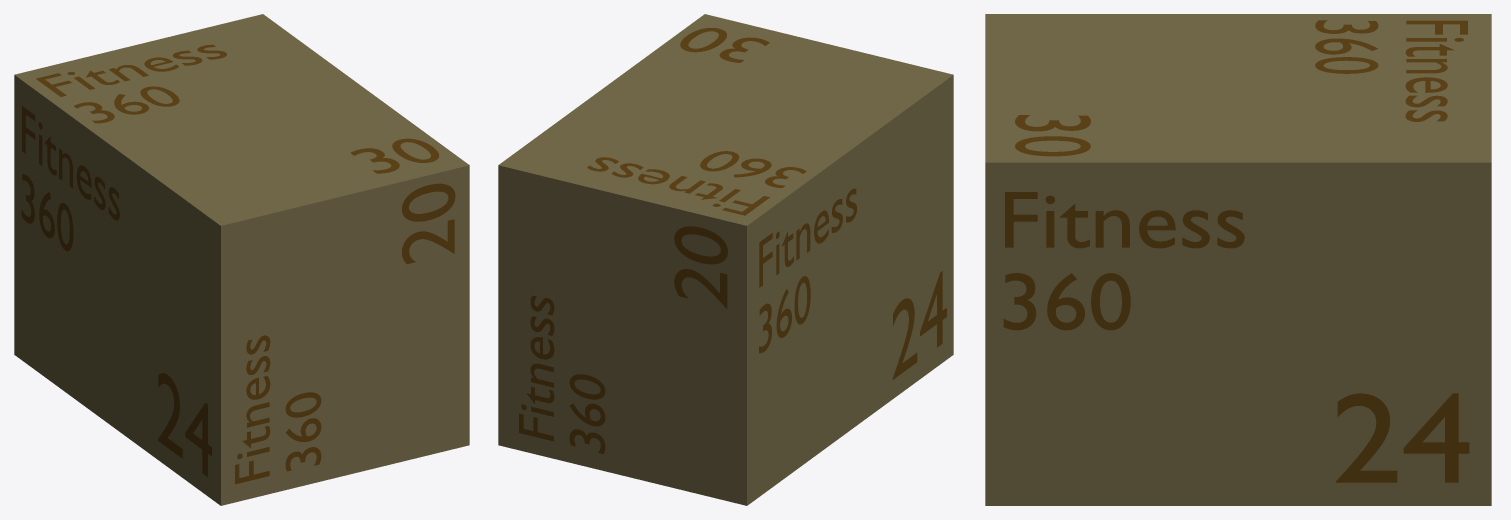
Rendered from FitnessBOX2.fbx.
The picture shows the model from 3 angles, left to right: view 1: azimuth 30°, elevation 25°; view 2: azimuth 150°, elevation 25°; view 3: azimuth 270°, elevation 25°; orthographic projection. The views are drawn at different scales.
Parts seen in each view (by area): view 1: Cube, Text.005, Text.006, Text.008, Text.004, Text.007, Text.009; view 2: Cube, Text, Text.006, Text.008, Text.002, Text.007, Text.009; view 3: Cube, Text.003, Text.001, Text.008, Text.009.
Part boxes in pixels (bbox=[...]): Cube: bbox=[14, 14, 469, 505]; Text.005: bbox=[235, 335, 321, 484]; Text.006: bbox=[21, 106, 119, 251]; Text.008: bbox=[36, 44, 226, 123]; Text.004: bbox=[402, 183, 455, 264]; Text.007: bbox=[157, 373, 211, 476]; Text.009: bbox=[351, 138, 439, 173]; Cube: bbox=[498, 14, 953, 505]; Text: bbox=[519, 295, 605, 453]; Text.006: bbox=[759, 188, 856, 353]; Text.008: bbox=[587, 151, 806, 215]; Text.002: bbox=[674, 226, 727, 308]; Text.007: bbox=[892, 271, 946, 379]; Text.009: bbox=[680, 28, 769, 62]; Cube: bbox=[985, 14, 1491, 505]; Text.003: bbox=[1003, 192, 1244, 330]; Text.001: bbox=[1335, 393, 1469, 482]; Text.008: bbox=[1315, 20, 1467, 121]; Text.009: bbox=[1015, 115, 1090, 156].
Bounding box in the file's own units: 397 × 420 × 569.
